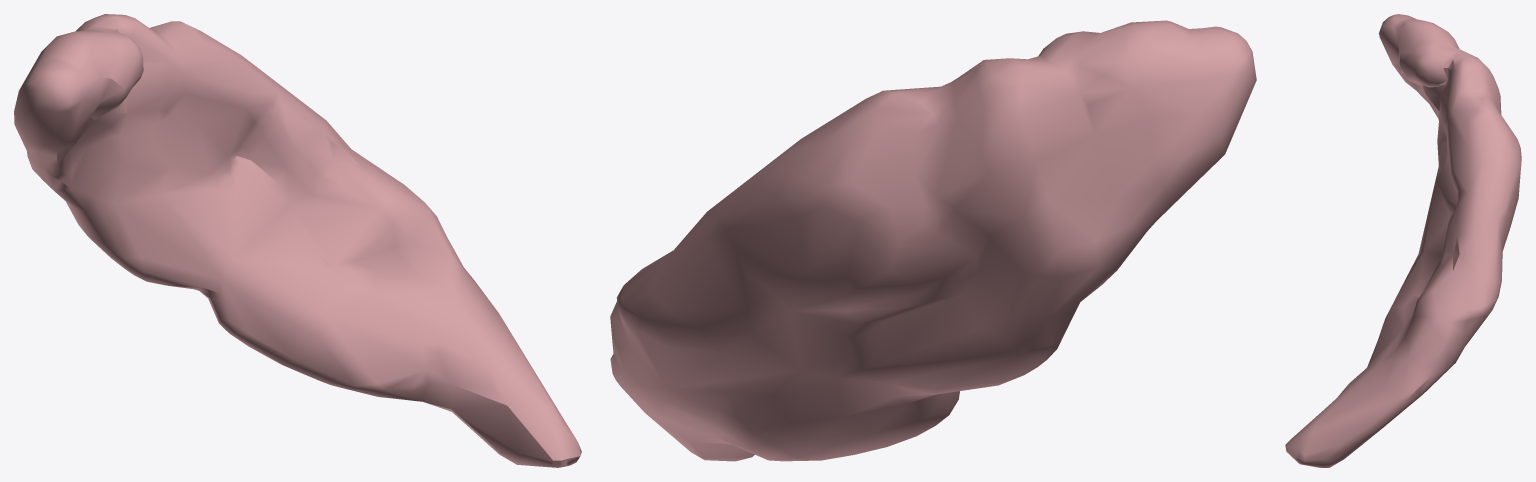
Rendered from fma19387.glb.
3 renders of one model, left to right at view 1: azimuth 30°, elevation 25°; view 2: azimuth 150°, elevation 25°; view 3: azimuth 270°, elevation 25°, orthographic. The views are drawn at different scales.
Parts seen in each view (by area): view 1: FMA19387; view 2: FMA19387; view 3: FMA19387.
Boxes of the visible parts, x1=… form: FMA19387: x1=14, y1=14, x2=581, y2=467; FMA19387: x1=610, y1=20, x2=1256, y2=461; FMA19387: x1=1285, y1=14, x2=1521, y2=467.
Bounding box in the file's own units: 0.0318 × 0.0297 × 0.0203.
